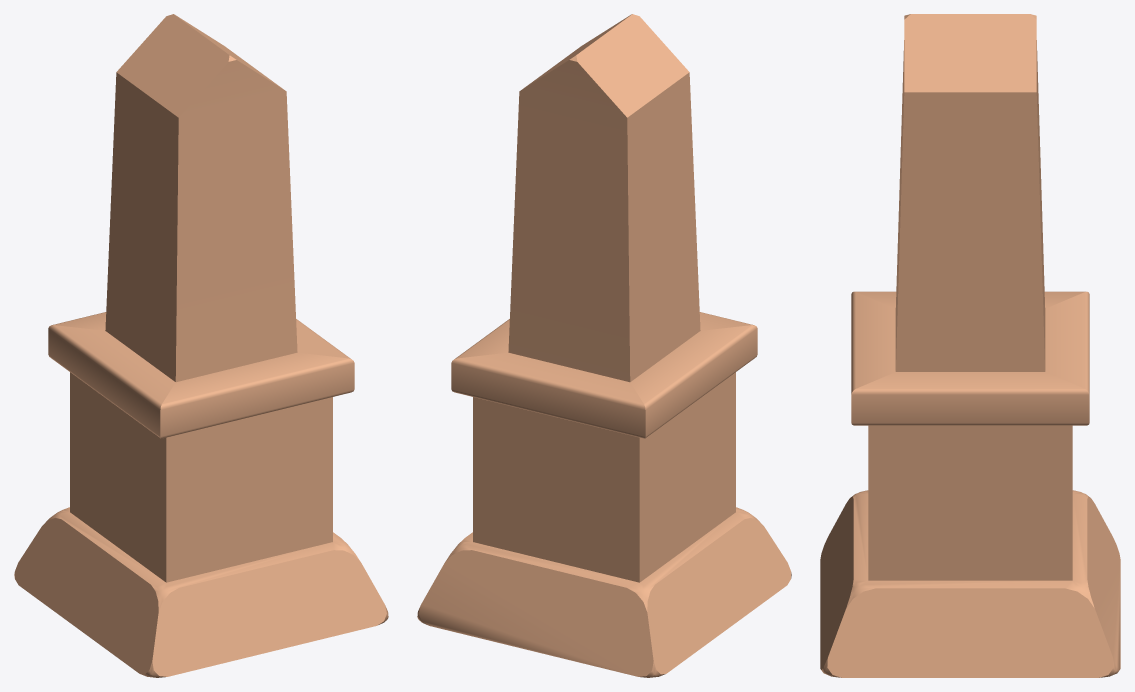
The model's file is (Prop)Obelisc_01.fbx.
3 renders of one model, left to right at view 1: azimuth 30°, elevation 25°; view 2: azimuth 150°, elevation 25°; view 3: azimuth 270°, elevation 25°, orthographic. The views are drawn at different scales.
Visible parts, largest first — view 1: Obelisc; view 2: Obelisc; view 3: Obelisc.
Part boxes in pixels (x1,y1,x2,y2): Obelisc: (14,14,388,677); Obelisc: (417,14,791,677); Obelisc: (820,14,1120,677).
Size of the model in its own units: 76.91 by 170 by 76.91.
